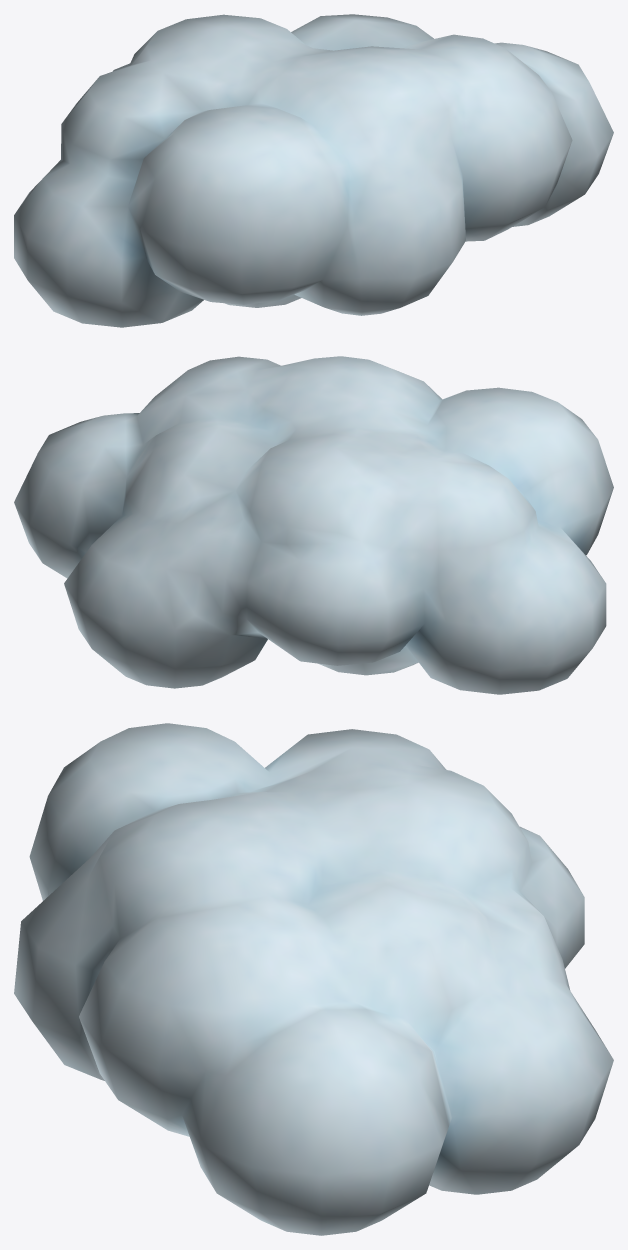
File: Cloud01.fbx
3 renders of one model, top to bottom at view 1: azimuth 30°, elevation 25°; view 2: azimuth 150°, elevation 25°; view 3: azimuth 270°, elevation 25°, orthographic. The views are drawn at different scales.
Visible parts, largest first — view 1: Cloud01; view 2: Cloud01; view 3: Cloud01.
Part boxes in pixels (x1,y1,x2,y2): Cloud01: (14, 14, 613, 327); Cloud01: (14, 356, 613, 694); Cloud01: (14, 723, 613, 1235).
Size of the model in its own units: 2.38 by 0.9915 by 1.71.
